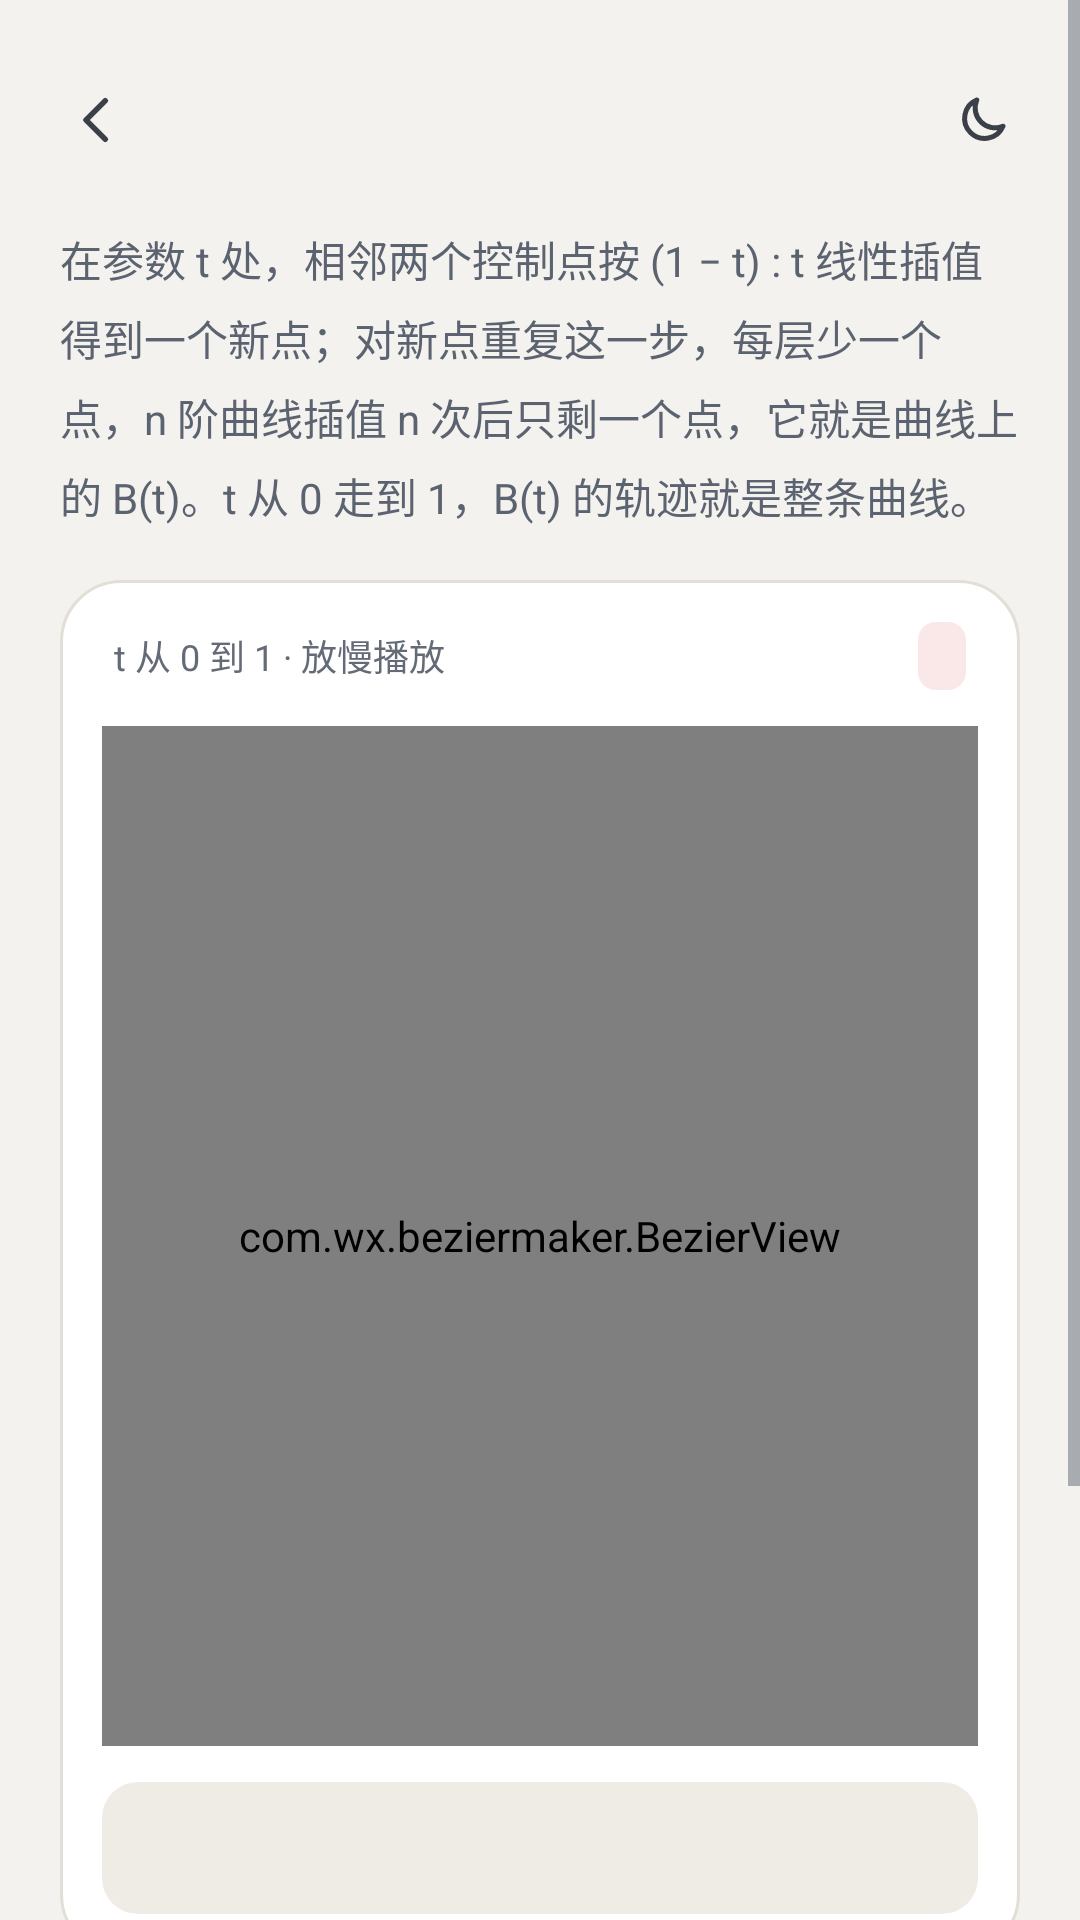

Icons on this 1080px x 1920px Android screen, each with its box as {"x1": x1, "y1": y1, "x2": x2, "y2": y2}:
切换到深色: {"x1": 962, "y1": 97, "x2": 1006, "y2": 141}
返回: {"x1": 83, "y1": 98, "x2": 108, "y2": 142}
